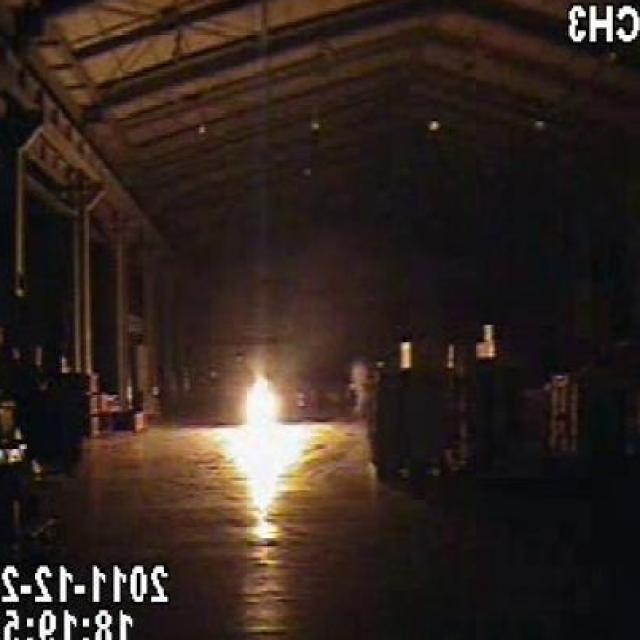smoke: (236, 376, 290, 473)
